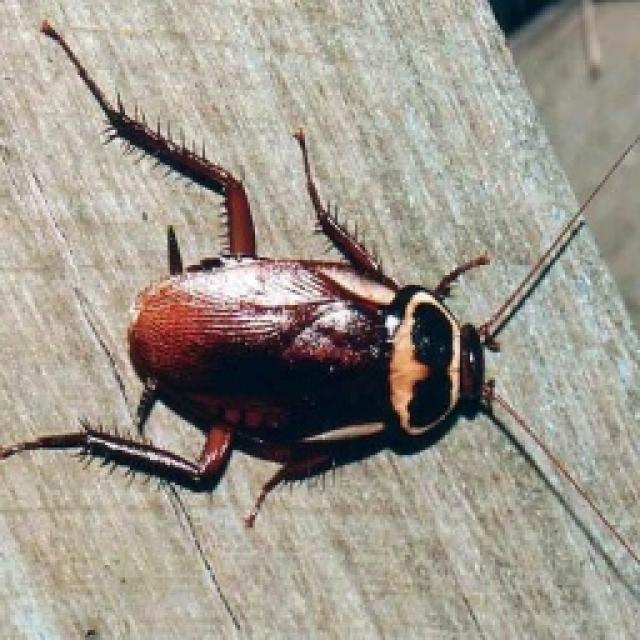cockroach: (108, 166, 530, 483)
